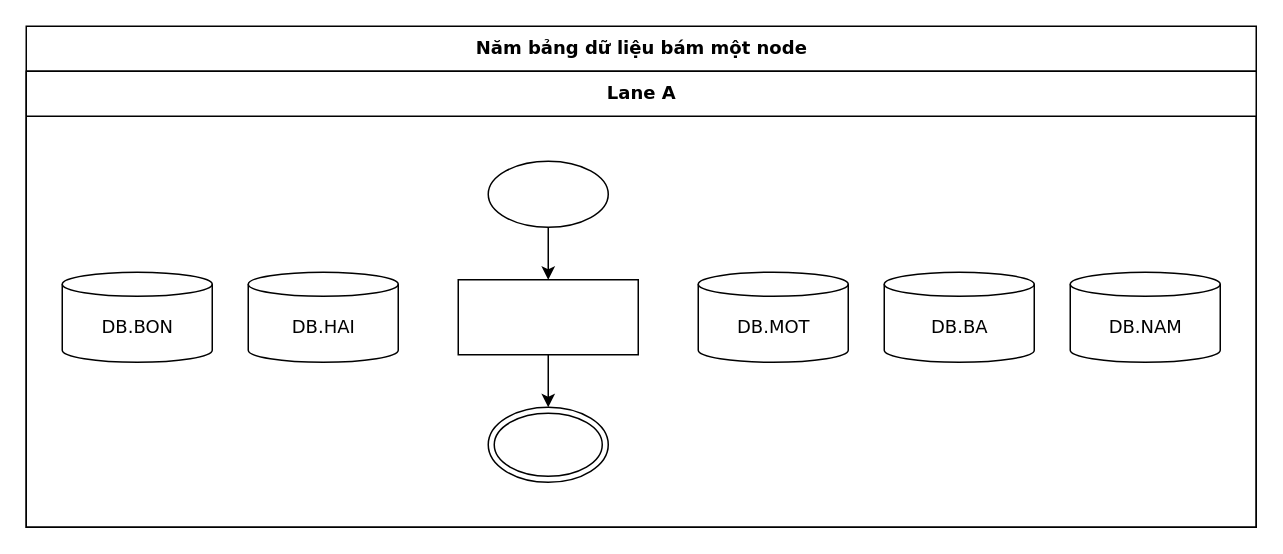
The diagram is 1283 pixels wide and 554 high, and some of its shapes have lost their labels. The centre of each missing label's shape, as x and y in pixels:
"Vào" belongs at pixel 547 193.
"Xong" belongs at pixel 547 444.
"Đối soát" belongs at pixel 547 316.
